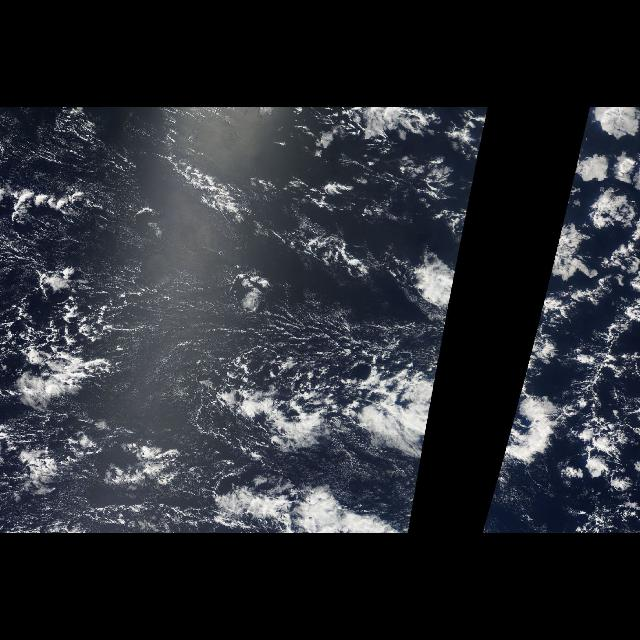Flower: (324, 108, 488, 488), (494, 108, 640, 488)
Gravel: (2, 180, 130, 404), (185, 306, 429, 402)
Sugar: (59, 148, 229, 428)
